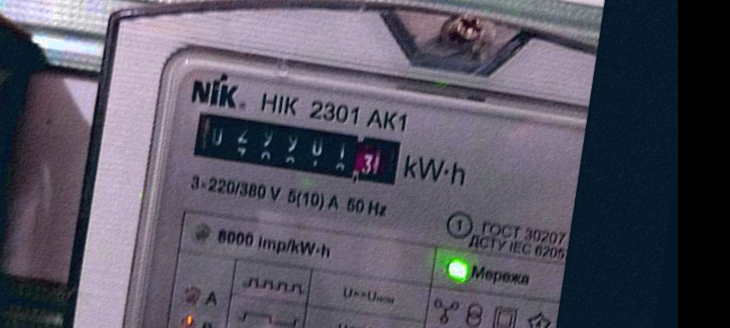0: (308, 133, 327, 160), (208, 124, 226, 148)
1: (335, 137, 351, 162)
2: (235, 123, 253, 147)
3: (358, 152, 377, 177)
9: (285, 131, 300, 156), (260, 126, 275, 149)
screen: (184, 104, 412, 198)
